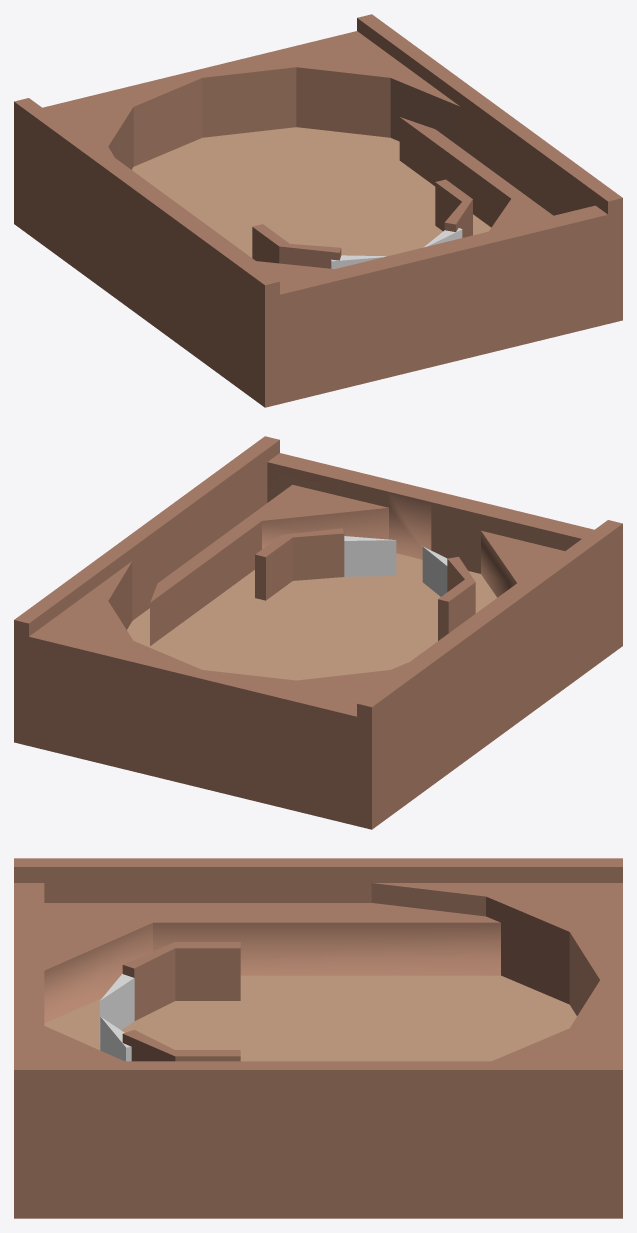
File: minigame_bord_col.fbx
3 renders of one model, top to bottom at view 1: azimuth 30°, elevation 25°; view 2: azimuth 150°, elevation 25°; view 3: azimuth 270°, elevation 25°, orthographic. The views are drawn at different scales.
Visible parts, largest first — view 1: bord, 平面; view 2: bord, 平面, pin1, pin2; view 3: bord, 平面, pin2, pin1.
Boxes of the visible parts, x1,y1,x2,y2 form: bord: (14, 14, 622, 407); 平面: (132, 127, 490, 257); bord: (14, 436, 622, 829); 平面: (127, 553, 496, 680); pin1: (344, 536, 396, 576); pin2: (422, 546, 447, 596); bord: (14, 858, 622, 1218); 平面: (44, 975, 576, 1061); pin2: (99, 974, 134, 1044); pin1: (100, 1016, 131, 1061).
Bounding box in the file's own units: 171 × 56 × 208.
